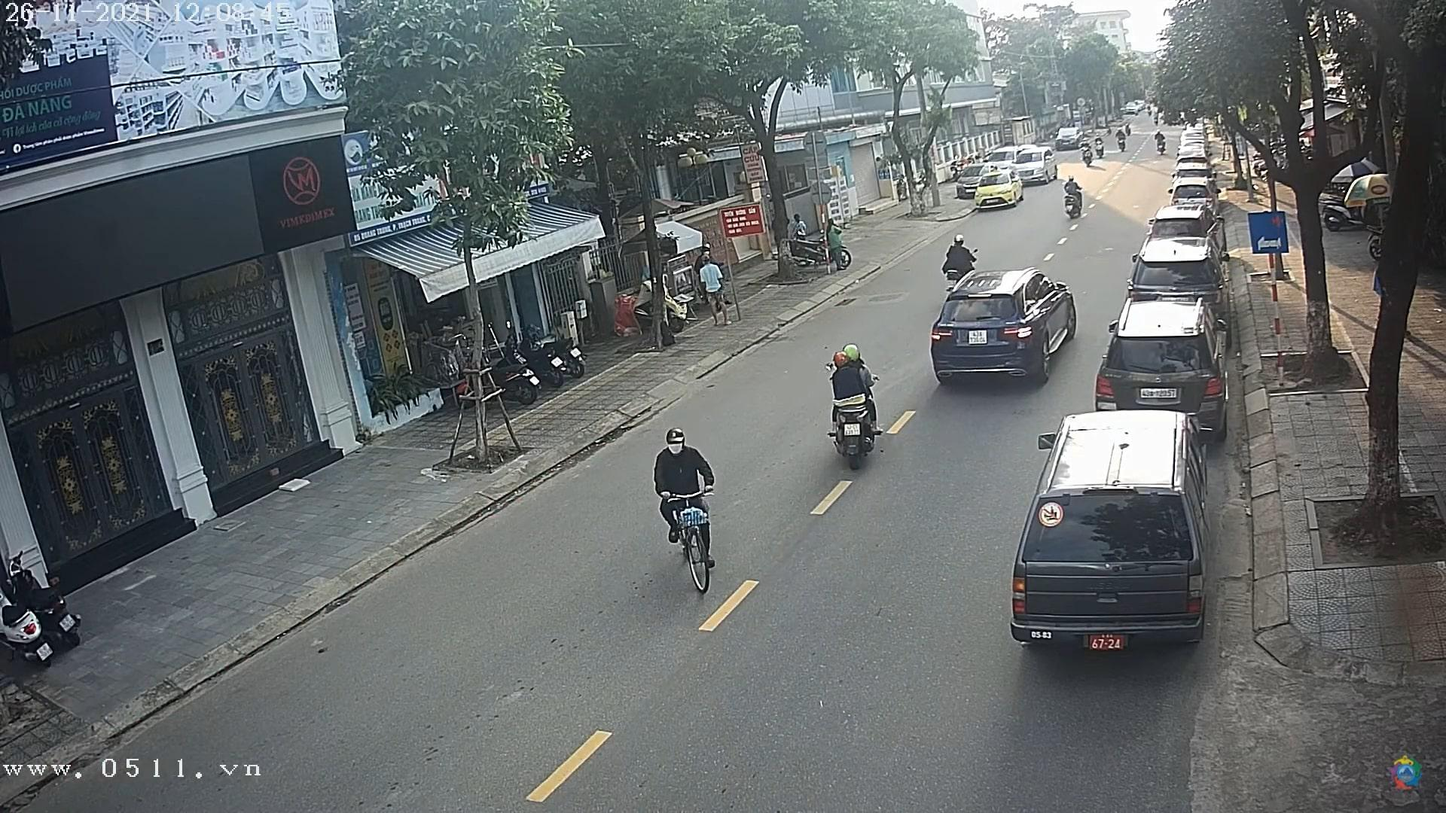car: (1013, 406, 1206, 651), (929, 266, 1078, 384), (1097, 298, 1227, 424), (1129, 236, 1223, 297), (1168, 185, 1212, 212), (1057, 125, 1087, 149)
motorbike: (830, 401, 883, 469), (1066, 189, 1086, 223)
